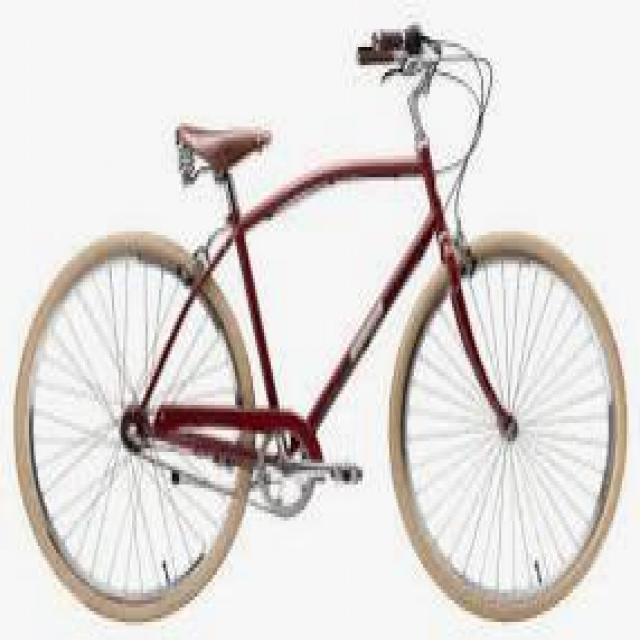bicycle: (35, 30, 630, 605)
